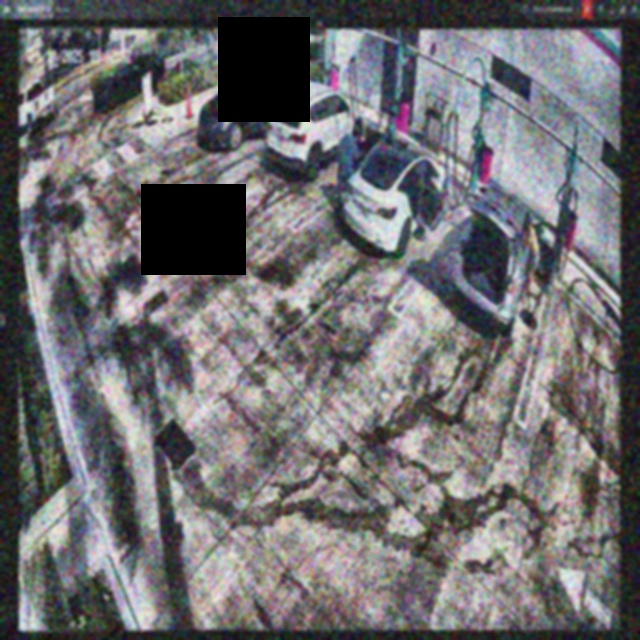Car: (455, 184, 558, 331), (346, 126, 450, 262), (263, 88, 366, 187), (196, 66, 297, 157)
